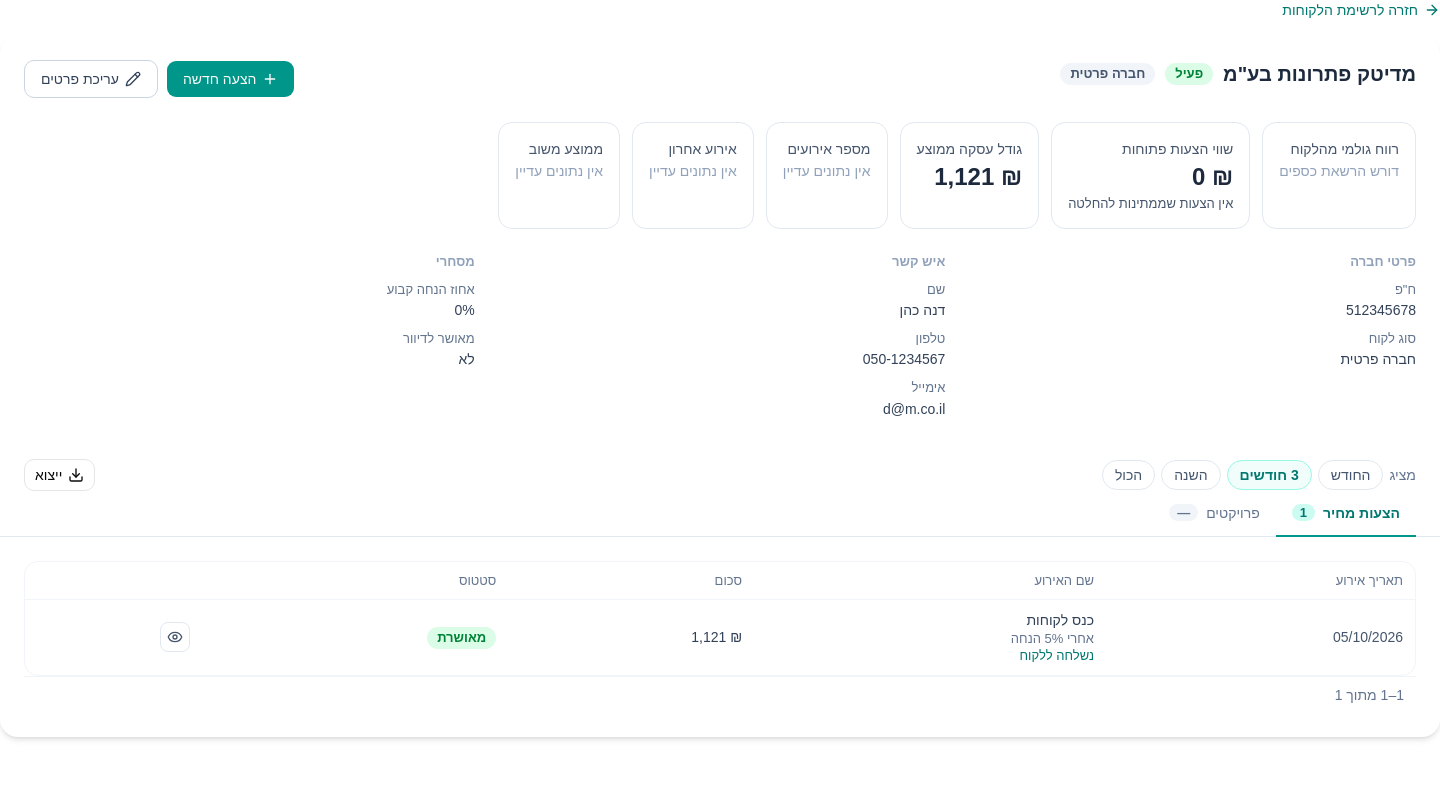
Scenario: CustomerDetailsPage — חיבור לחלון-הייצוא › 🔒 בלי הרשאת פרויקטים — הייצוא של הלשונית חסום עם הנוסח הקיים, לא קובץ ריק
Click the button with test id "customer-tab-projects" at [1214, 514], box [1153,491,1276,537]
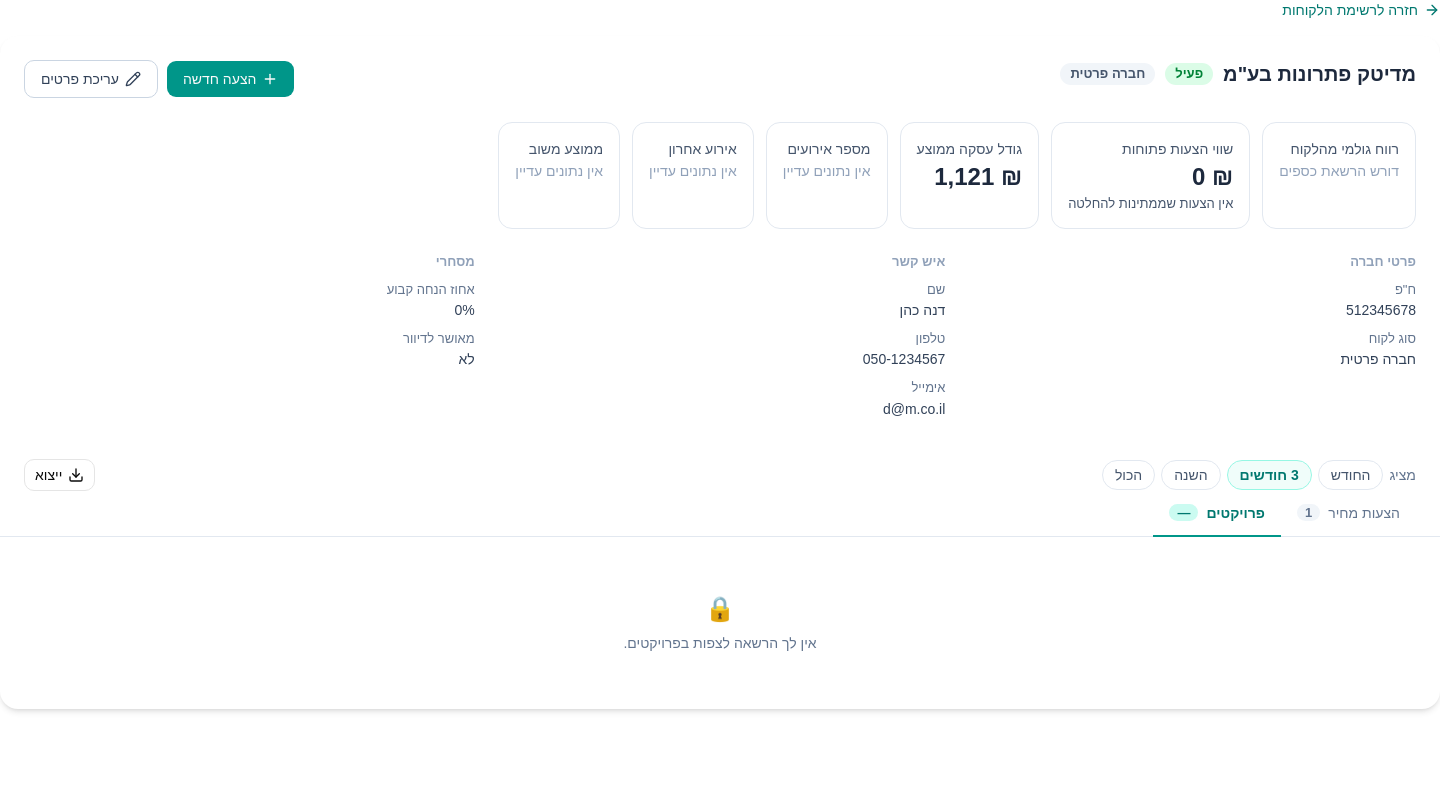
Click the button with test id "customer-export-button" at [60, 475], box [24,459,95,491]
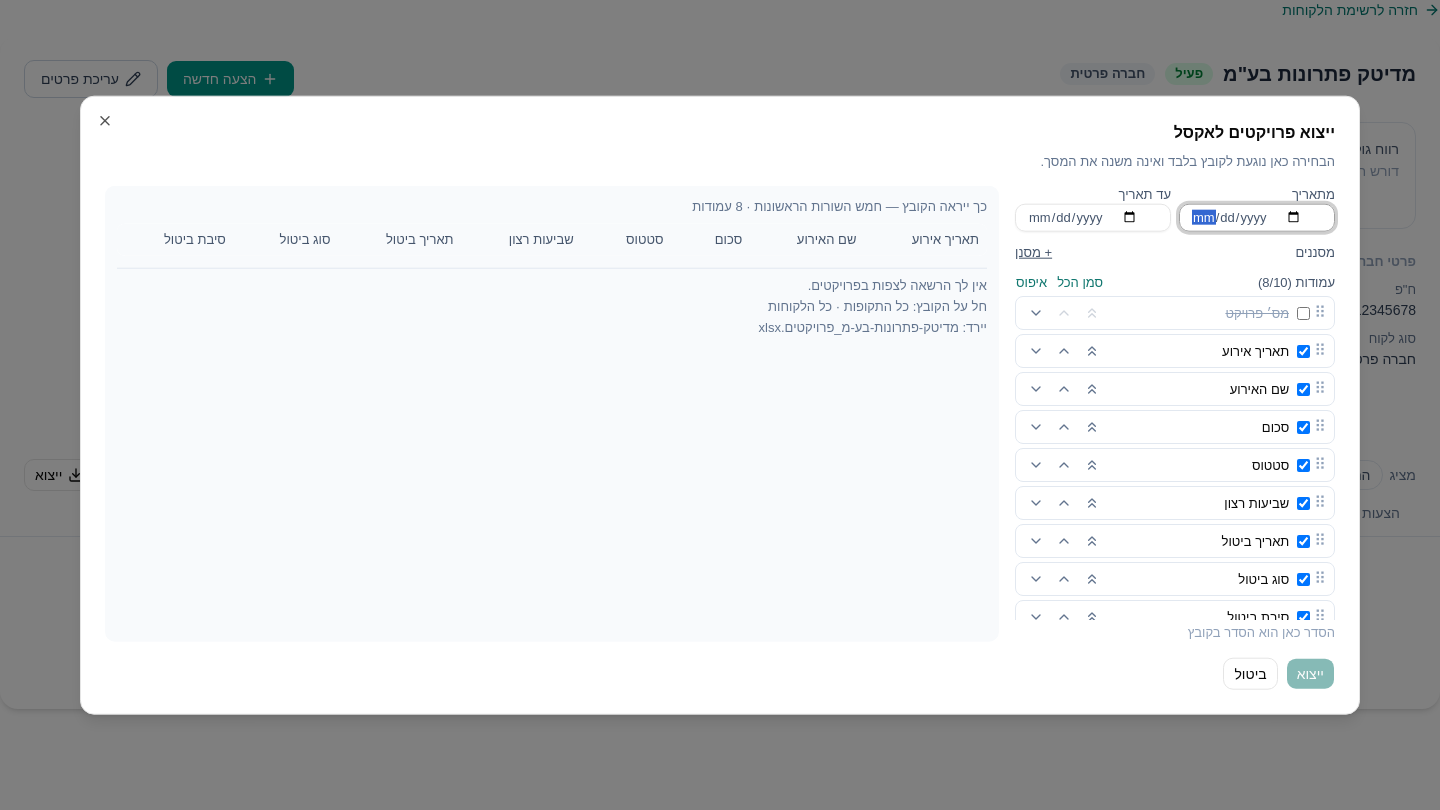
Expected: the text with test id "export-count" reads "אין לך הרשאה לצפות בפרויקטים.", [808,277,987,292]
Expected: the button with test id "export-dialog-run" is disabled, [1286,657,1335,689]
